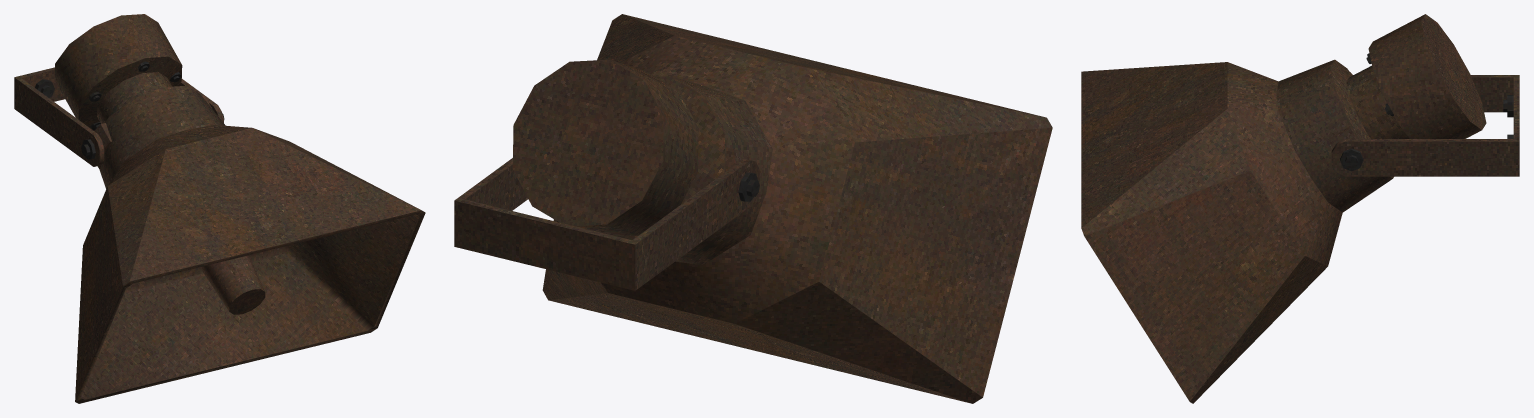
Rendered from speaker_mx_1_2.glb.
3 views of the same model, side by side, from view 1: azimuth 30°, elevation 25°; view 2: azimuth 150°, elevation 25°; view 3: azimuth 270°, elevation 25° (orthographic). The views are drawn at different scales.
Parts seen in each view (by area): view 1: speaker_mx_1_2; view 2: speaker_mx_1_2; view 3: speaker_mx_1_2.
Part boxes in pixels (x1,y1,x2,y2): speaker_mx_1_2: (14, 14, 425, 403); speaker_mx_1_2: (454, 14, 1052, 403); speaker_mx_1_2: (1081, 14, 1519, 403).
Bounding box in the file's own units: 0.4947 × 0.4325 × 0.564.
Materials: 2 (2 with a texture image).
